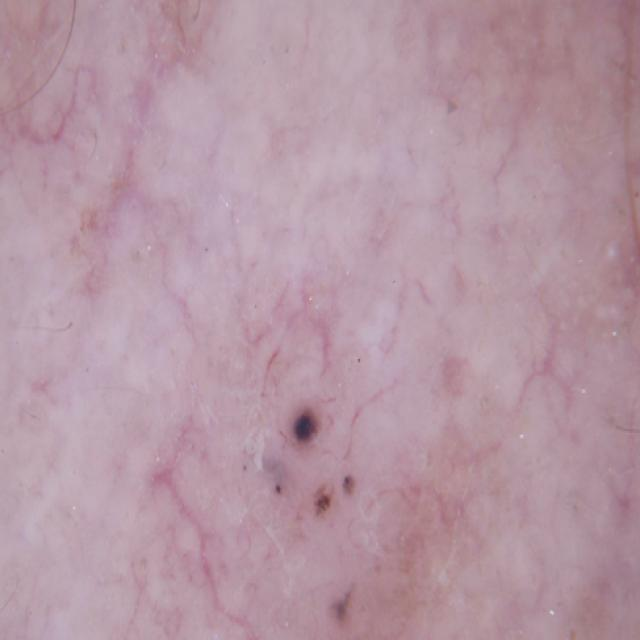Carcinoma: (202, 309, 467, 640)
